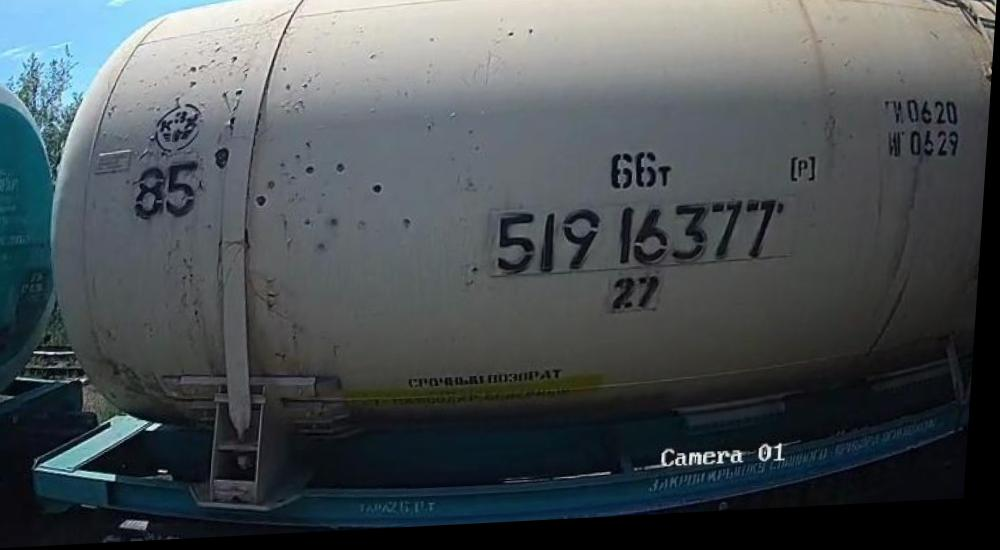Wagon-number: (494, 202, 784, 281)
